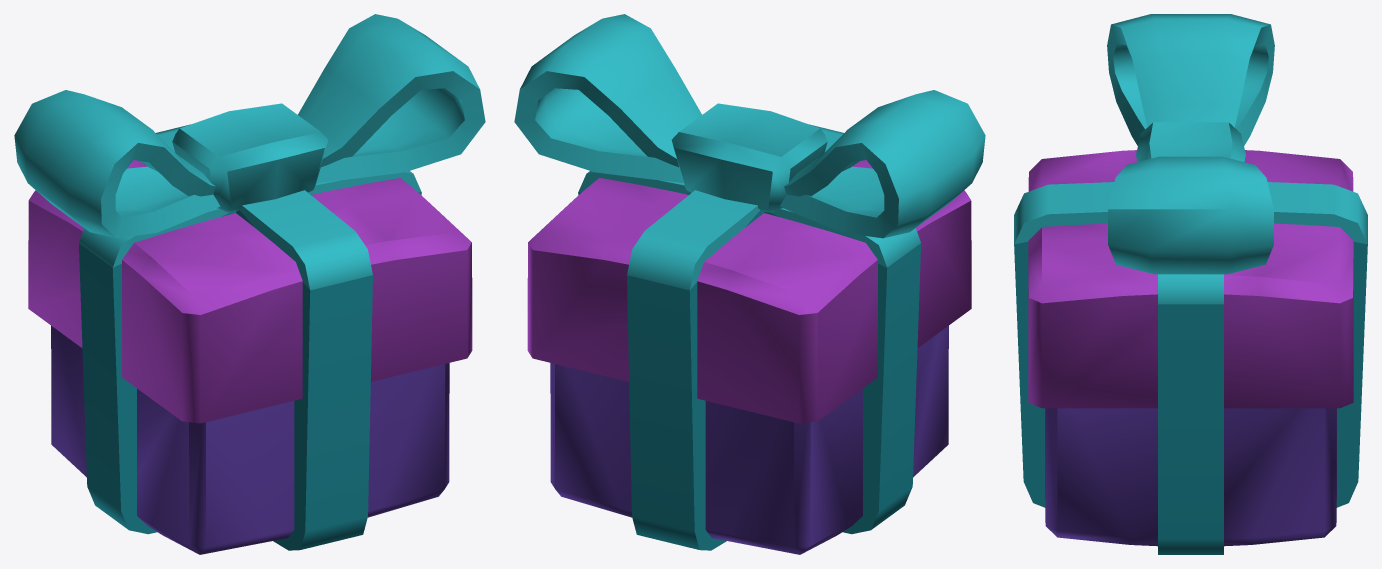
The model's file is presente_natal_roxo_fita_azul_pacote.glb.
3 views of the same model, side by side, from view 1: azimuth 30°, elevation 25°; view 2: azimuth 150°, elevation 25°; view 3: azimuth 270°, elevation 25° (orthographic). The views are drawn at different scales.
Parts seen in each view (by area): view 1: presente_natal_roxo_fita_azul_pacote; view 2: presente_natal_roxo_fita_azul_pacote; view 3: presente_natal_roxo_fita_azul_pacote.
Boxes of the visible parts, <box> form: presente_natal_roxo_fita_azul_pacote: <box>14,14,485,554</box>; presente_natal_roxo_fita_azul_pacote: <box>514,14,985,554</box>; presente_natal_roxo_fita_azul_pacote: <box>1014,14,1367,554</box>.
Bounding box in the file's own units: 0.4464 × 0.45 × 0.3469.
Materials: 1 (1 with a texture image).
